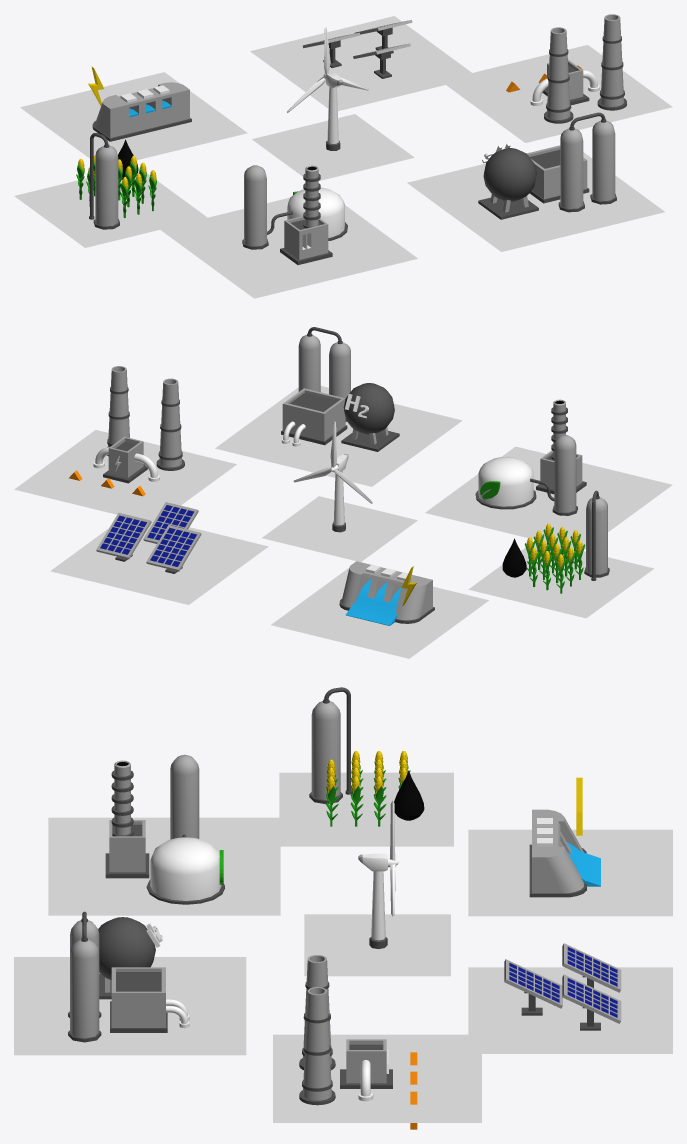
File: renewables.fbx
3 renders of one model, top to bottom at view 1: azimuth 30°, elevation 25°; view 2: azimuth 150°, elevation 25°; view 3: azimuth 270°, elevation 25°, orthographic. The views are drawn at different scales.
Parts seen in each view (by area): view 1: Plane.004, Plane.007, hydrogen, Plane.003, Plane.002, Plane.006, biomass, Plane.005, Plane, geothermal, biofuel, hydroelectric_dam (+3 smaller); view 2: Plane.002, hydrogen, Plane.003, Plane.004, Plane.007, Plane.006, biomass, Plane.005, geothermal, Plane, biofuel, hydroelectric_dam (+3 smaller); view 3: Plane.004, Plane.003, Plane.006, Plane.007, Plane.002, hydrogen, biomass, Plane.005, Plane, geothermal, biofuel, solarpanels (+2 smaller).
Boxes of the visible parts, x1=… form: Plane.004: x1=160, y1=197, x2=417, y2=298; Plane.007: x1=250, y1=16, x2=477, y2=110; hydrogen: x1=478, y1=112, x2=616, y2=219; Plane.003: x1=407, y1=152, x2=664, y2=251; Plane.002: x1=446, y1=45, x2=672, y2=142; Plane.006: x1=20, y1=72, x2=247, y2=160; biomass: x1=242, y1=165, x2=347, y2=264; Plane.005: x1=14, y1=167, x2=207, y2=247; Plane: x1=252, y1=114, x2=414, y2=180; geothermal: x1=506, y1=14, x2=626, y2=123; biofuel: x1=76, y1=133, x2=156, y2=229; hydroelectric_dam: x1=92, y1=82, x2=191, y2=141; Plane.002: x1=14, y1=430, x2=236, y2=518; hydrogen: x1=281, y1=327, x2=399, y2=451; Plane.003: x1=215, y1=386, x2=462, y2=486; Plane.004: x1=425, y1=446, x2=672, y2=549; Plane.007: x1=50, y1=512, x2=268, y2=604; Plane.006: x1=271, y1=568, x2=488, y2=658; biomass: x1=475, y1=399, x2=586, y2=515; Plane.005: x1=468, y1=542, x2=654, y2=618; geothermal: x1=69, y1=366, x2=184, y2=496; Plane: x1=262, y1=496, x2=417, y2=562; biofuel: x1=502, y1=490, x2=609, y2=593; hydroelectric_dam: x1=339, y1=561, x2=434, y2=625; Plane.004: x1=48, y1=817, x2=280, y2=915; Plane.003: x1=14, y1=957, x2=246, y2=1055; Plane.006: x1=468, y1=829, x2=672, y2=916; Plane.007: x1=468, y1=967, x2=672, y2=1053; Plane.002: x1=273, y1=1034, x2=481, y2=1122; hydrogen: x1=68, y1=911, x2=189, y2=1042; biomass: x1=105, y1=754, x2=224, y2=904; Plane.005: x1=279, y1=772, x2=453, y2=846; Plane: x1=304, y1=914, x2=450, y2=976; geothermal: x1=299, y1=955, x2=417, y2=1129; biofuel: x1=309, y1=687, x2=424, y2=826; solarpanels: x1=504, y1=943, x2=621, y2=1030.
Size of the model in its own units: 5620 by 1267 by 4470.
16 materials, 16 textured.
